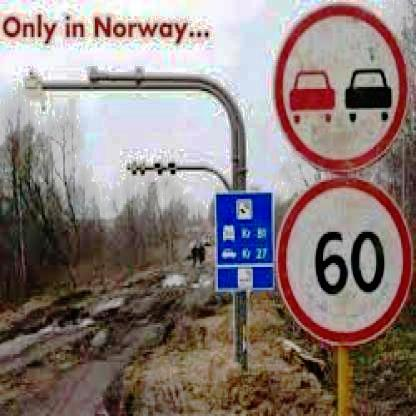Speed Limit -60-: (272, 172, 416, 348)
